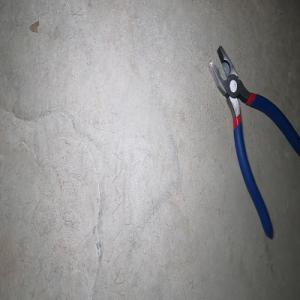Pliers: (207, 45, 300, 239)
